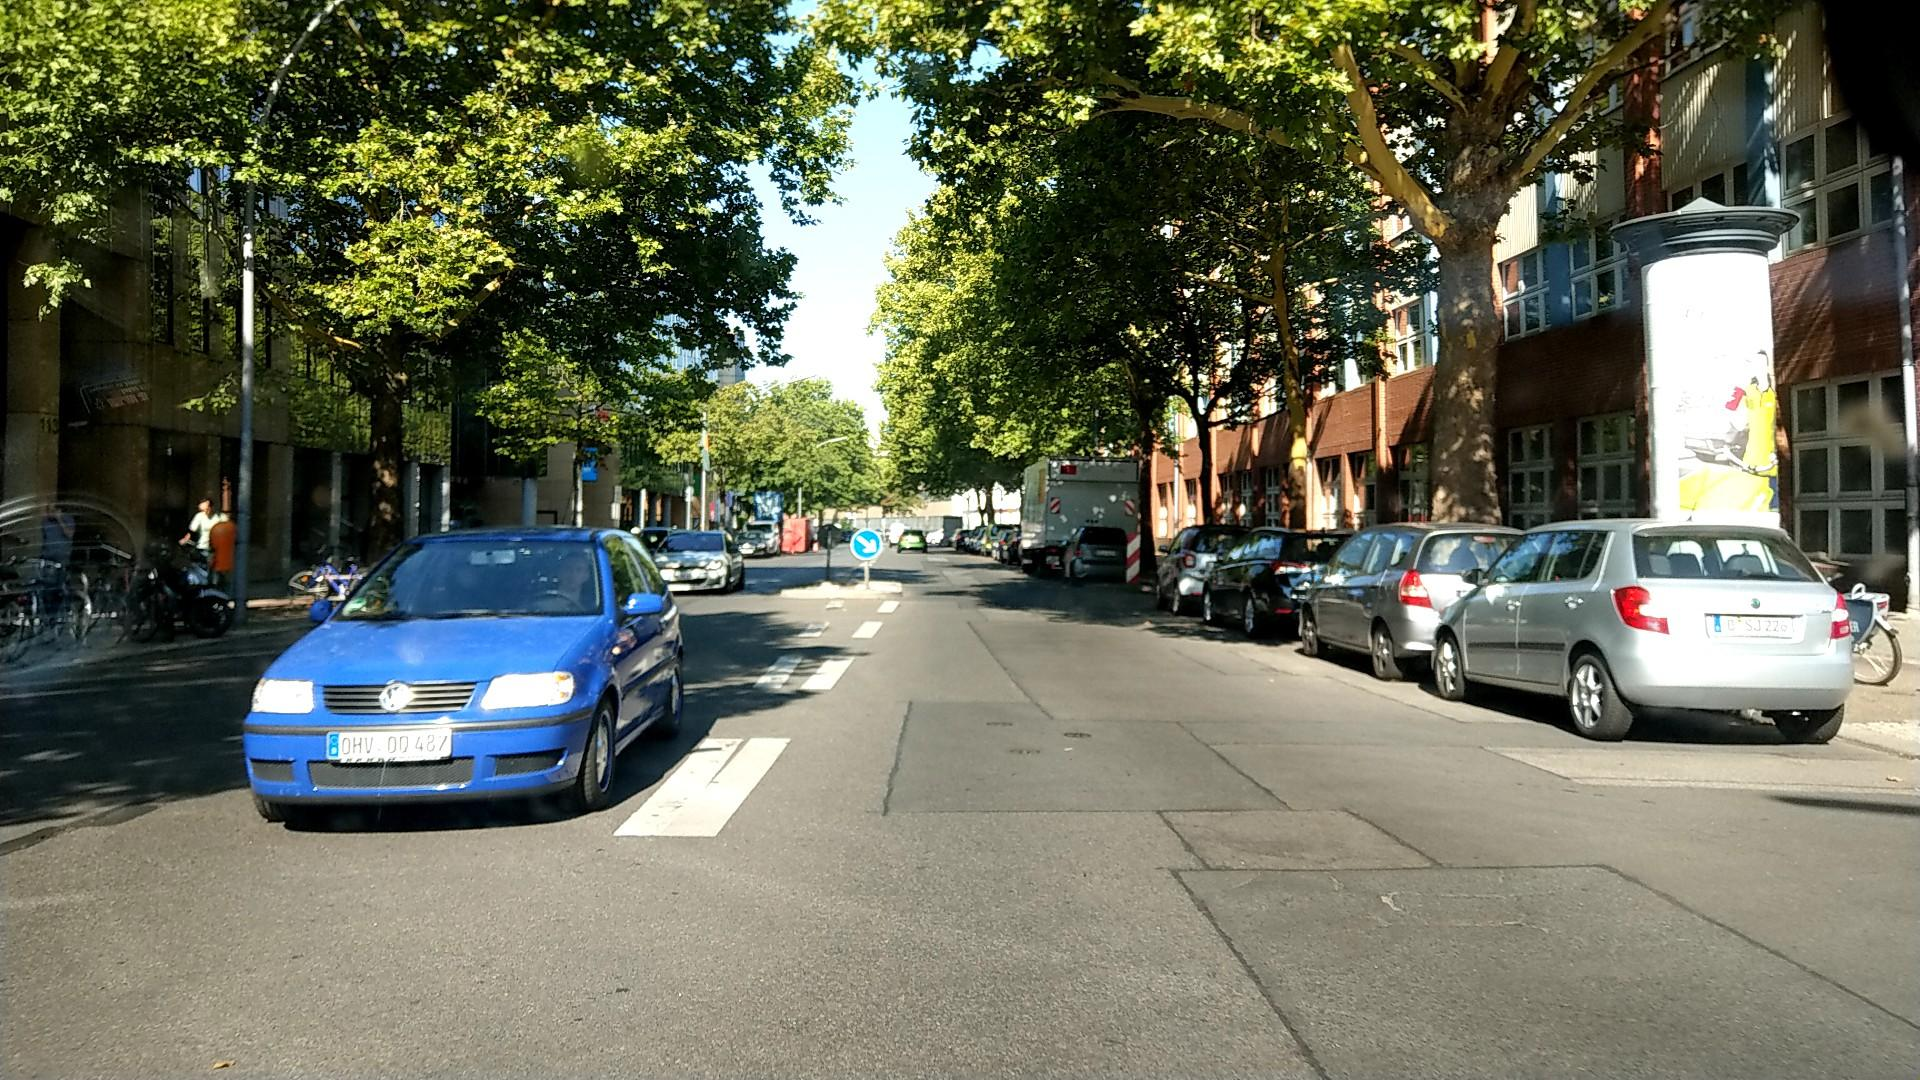Human face: (558, 550, 591, 593), (196, 498, 214, 518)
Vehicle registration plate: (327, 732, 450, 762), (1714, 614, 1794, 639), (672, 572, 691, 579)
